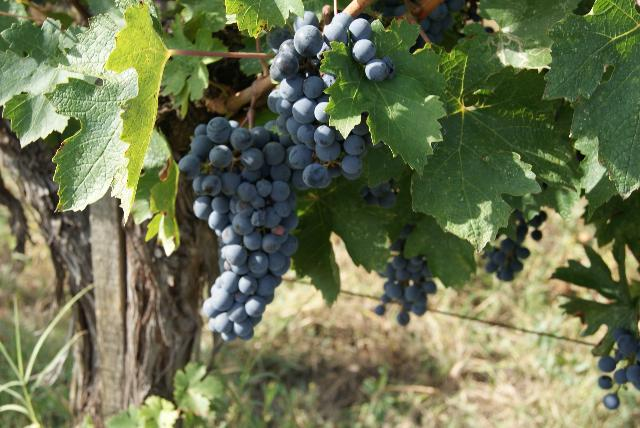grapes: (179, 118, 311, 341), (271, 12, 395, 189)
